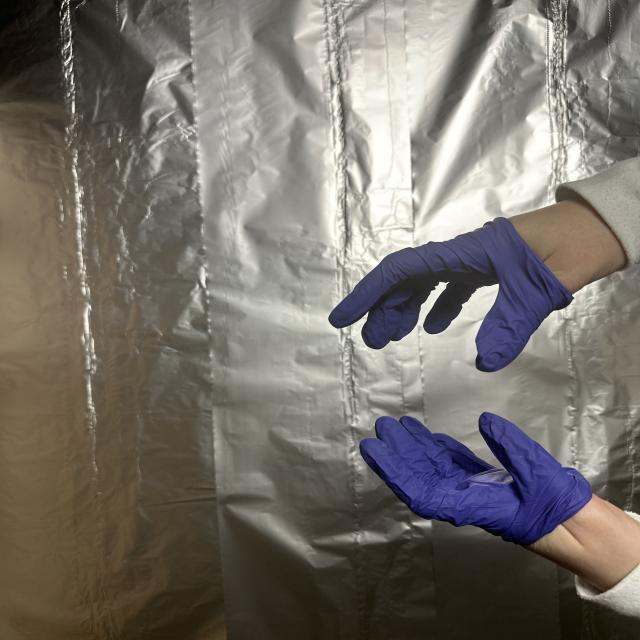glove_partial: (328, 195, 635, 374), (360, 408, 640, 594)
